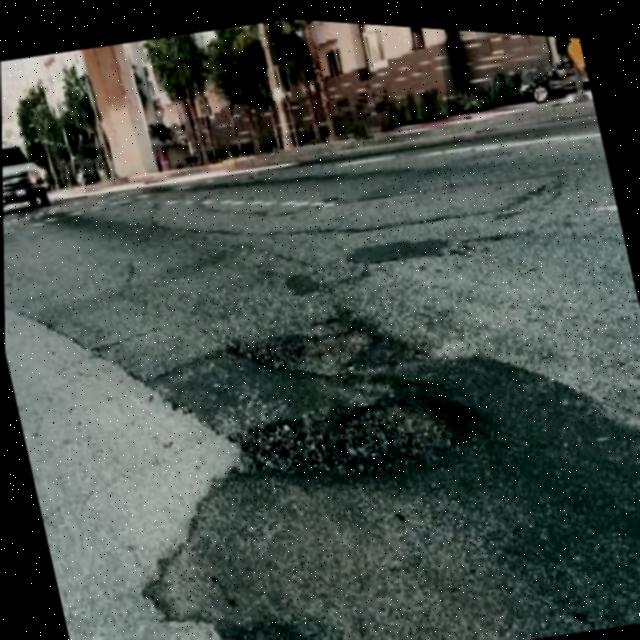Pothole: (219, 363, 472, 510), (215, 299, 382, 395)
